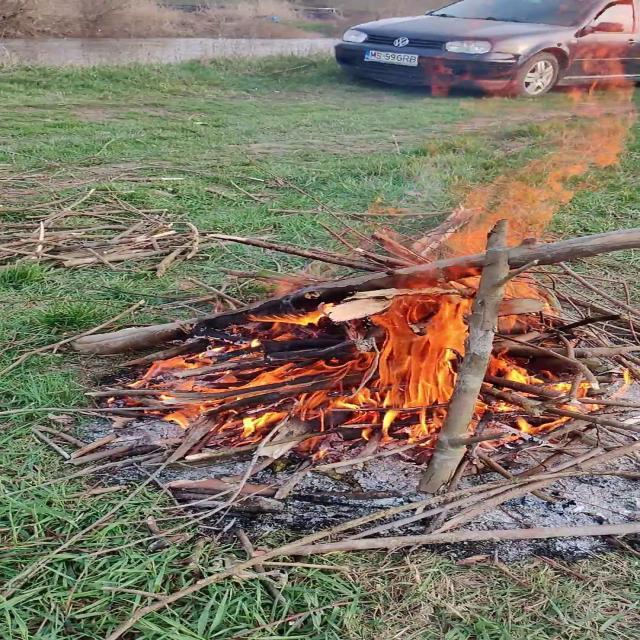Fire: (259, 39, 640, 444)
